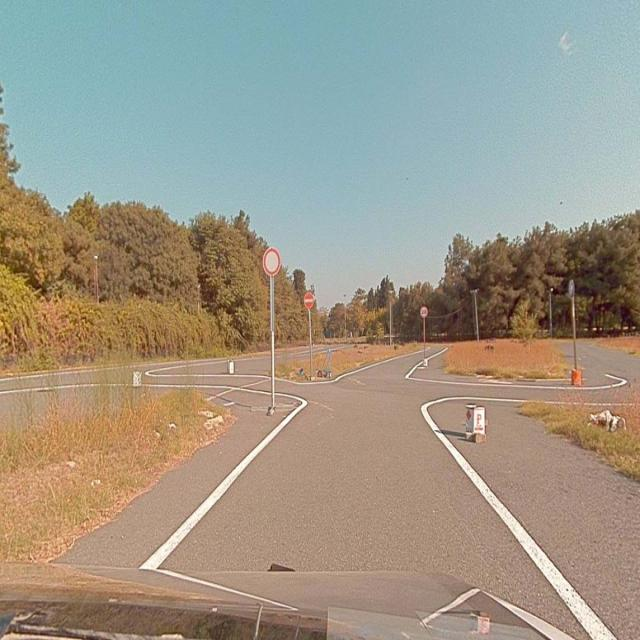20: (422, 306, 428, 316)
girisyok: (304, 292, 314, 308)
